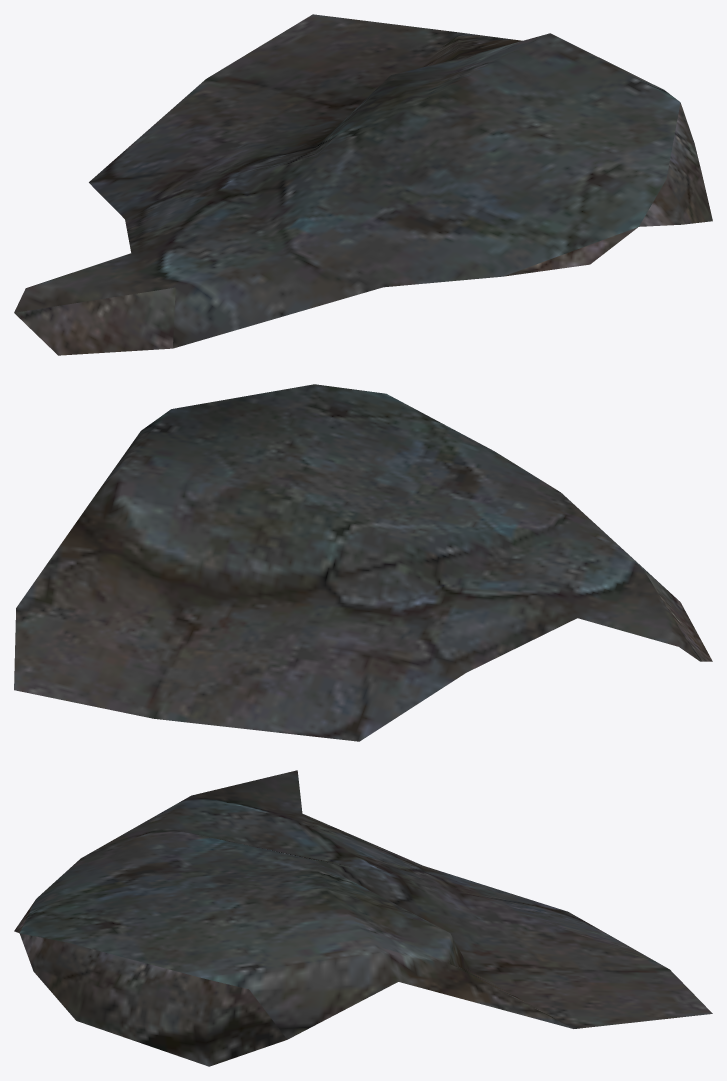
Rendered from S_Rock_Yellow036_H02.FBX.
3 views of the same model, one above another, from view 1: azimuth 30°, elevation 25°; view 2: azimuth 150°, elevation 25°; view 3: azimuth 270°, elevation 25° (orthographic). The views are drawn at different scales.
Parts seen in each view (by area): view 1: S_Rock_Yellow036_H02; view 2: S_Rock_Yellow036_H02; view 3: S_Rock_Yellow036_H02.
Boxes of the visible parts, <box> form: S_Rock_Yellow036_H02: <box>14,14,712,355</box>; S_Rock_Yellow036_H02: <box>14,384,712,741</box>; S_Rock_Yellow036_H02: <box>14,770,712,1066</box>.
Bounding box in the file's own units: 588 × 587 × 117.
Materials: 1 (1 with a texture image).
